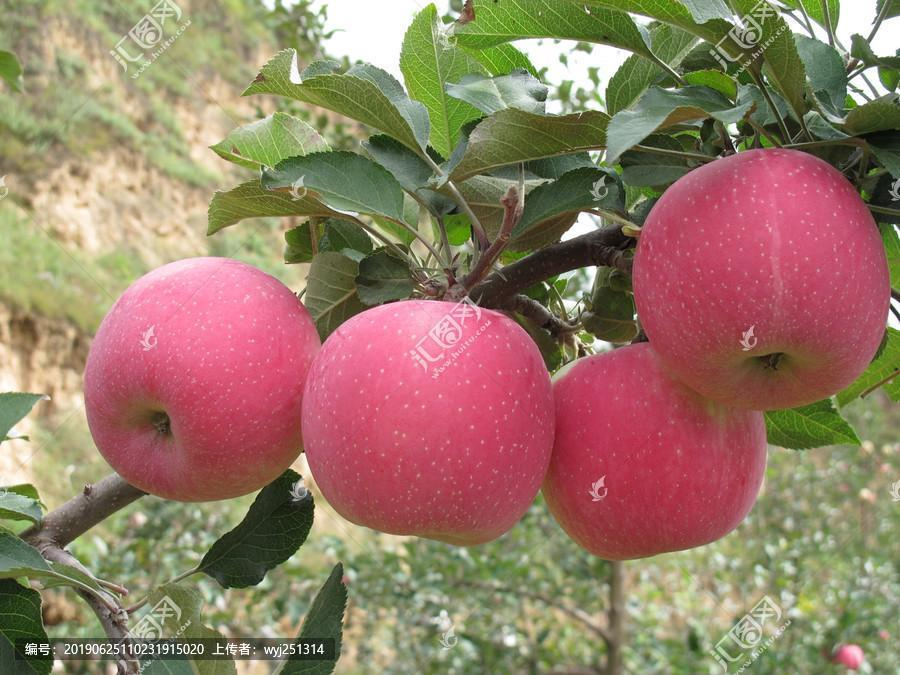apple: (628, 149, 885, 408), (295, 299, 550, 541), (82, 256, 320, 503), (540, 340, 764, 562), (829, 643, 864, 671)
